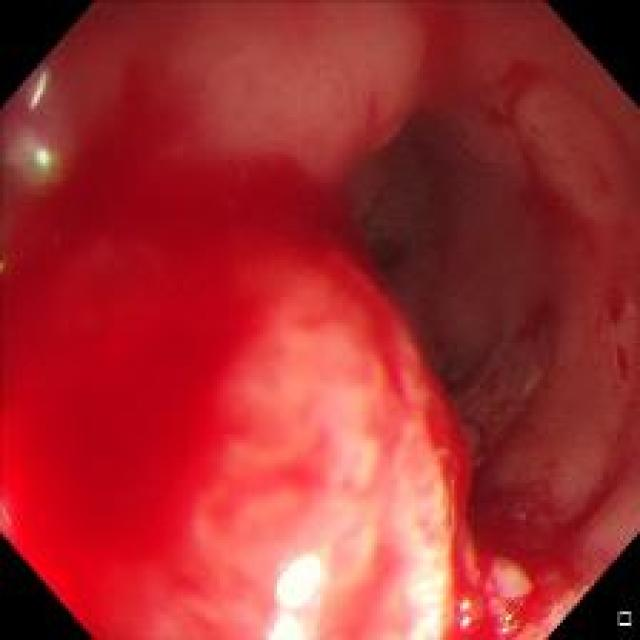blur: (11, 130, 441, 626), (409, 74, 628, 474)
color misalignment: (10, 131, 56, 180), (28, 68, 52, 105)
saturation: (236, 406, 444, 639)
specularity: (270, 544, 330, 606), (259, 609, 316, 638), (495, 611, 512, 631), (461, 616, 470, 626), (461, 600, 469, 610)
